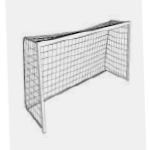goals: (19, 16, 133, 136)
